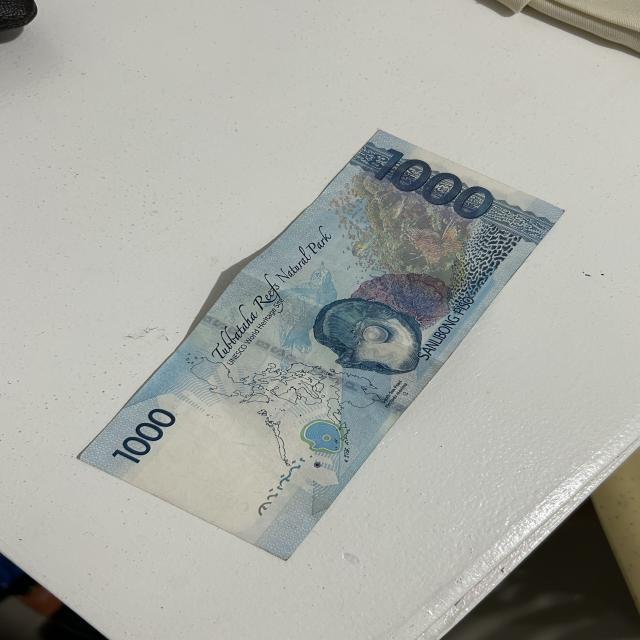1000_pearl: (314, 297, 429, 378)
1000_pearl_watermark: (300, 420, 340, 449)
